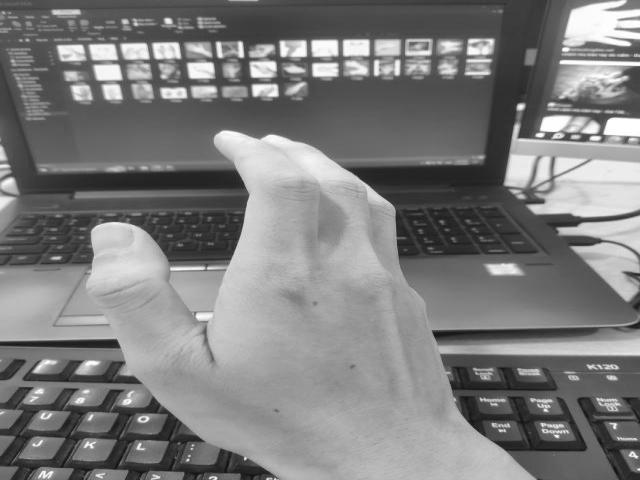not-gloved: (84, 129, 463, 472)
